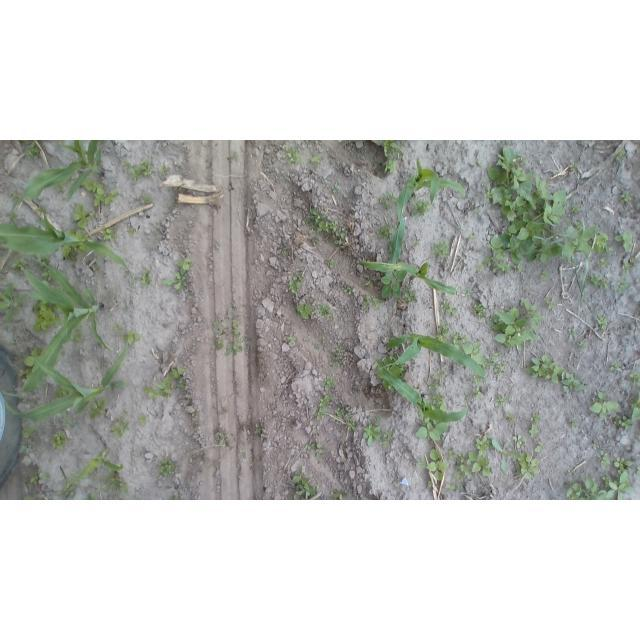Maize: (1, 258, 115, 397), (0, 334, 128, 423), (0, 213, 130, 276), (11, 140, 102, 228), (375, 359, 468, 424), (378, 334, 486, 379), (361, 258, 456, 294), (413, 157, 467, 204), (76, 448, 122, 479)
Weeds: (489, 145, 599, 263), (522, 355, 584, 394), (493, 296, 540, 346), (565, 471, 632, 500), (307, 207, 346, 246), (160, 257, 194, 292), (212, 319, 244, 355), (457, 451, 492, 482), (492, 439, 521, 474), (0, 282, 26, 319), (83, 179, 117, 206), (95, 474, 130, 499), (380, 141, 404, 174), (590, 391, 619, 418), (425, 447, 448, 481), (32, 304, 62, 329), (121, 159, 152, 182), (381, 270, 406, 298), (292, 476, 320, 501), (414, 423, 450, 442), (463, 341, 486, 367), (73, 203, 96, 229), (518, 453, 539, 480), (484, 254, 509, 275), (111, 411, 130, 438), (156, 454, 178, 476), (363, 424, 382, 447), (315, 395, 333, 418), (50, 431, 71, 450), (615, 230, 633, 252), (410, 200, 432, 217), (385, 356, 405, 374), (89, 398, 107, 418), (25, 347, 42, 368), (285, 146, 304, 164), (378, 191, 397, 209), (430, 240, 450, 257), (306, 442, 323, 462), (328, 348, 344, 369), (597, 449, 612, 471), (614, 456, 634, 472), (158, 376, 172, 396), (596, 230, 608, 253), (614, 416, 635, 429), (364, 294, 380, 311), (62, 482, 79, 498), (452, 331, 467, 349), (125, 331, 144, 345), (631, 391, 640, 420), (589, 275, 609, 288), (10, 258, 30, 271), (297, 302, 313, 318), (485, 349, 500, 366), (291, 275, 304, 294), (476, 434, 491, 450), (595, 313, 610, 329), (26, 143, 40, 160), (141, 269, 155, 286), (437, 323, 450, 341), (376, 225, 392, 239), (432, 395, 446, 411), (440, 302, 458, 314), (513, 436, 527, 451), (98, 226, 115, 238), (169, 368, 187, 379), (470, 386, 484, 400), (62, 412, 75, 427), (142, 386, 158, 398), (630, 368, 640, 387), (343, 286, 357, 299), (492, 364, 505, 377), (608, 360, 621, 373), (316, 304, 330, 316), (322, 376, 334, 390), (495, 395, 509, 407), (619, 279, 634, 290), (31, 471, 42, 486), (346, 417, 357, 432), (22, 426, 37, 436), (429, 381, 444, 391), (474, 304, 485, 317), (433, 370, 448, 379), (571, 203, 583, 214), (615, 149, 626, 161), (337, 408, 348, 420), (535, 440, 546, 452), (544, 297, 554, 310), (529, 424, 539, 437), (405, 291, 416, 302), (417, 459, 428, 470), (139, 413, 149, 425), (387, 242, 394, 259), (288, 332, 297, 345), (622, 191, 631, 204), (569, 417, 580, 427), (530, 413, 541, 423), (505, 413, 516, 423), (55, 389, 70, 396), (161, 161, 168, 176), (311, 154, 321, 164), (331, 184, 342, 193), (472, 375, 483, 384), (63, 246, 71, 258), (141, 194, 153, 202), (255, 423, 263, 435), (333, 492, 345, 500), (567, 328, 575, 340), (540, 271, 550, 280), (461, 289, 472, 297), (385, 431, 394, 440), (623, 265, 634, 272), (74, 331, 81, 342), (468, 234, 479, 241), (446, 484, 458, 490), (449, 450, 457, 459), (601, 259, 608, 269), (380, 441, 391, 447), (23, 496, 36, 501), (365, 277, 373, 285), (328, 261, 336, 269), (18, 371, 28, 377), (77, 246, 87, 252), (578, 341, 588, 347), (128, 228, 135, 236), (114, 324, 121, 331), (427, 482, 434, 489), (415, 236, 421, 244), (632, 257, 639, 263), (457, 484, 463, 491), (570, 165, 578, 170), (514, 264, 523, 268), (315, 343, 321, 349), (476, 264, 483, 269), (374, 416, 381, 421), (178, 384, 186, 388), (636, 468, 640, 475), (329, 314, 334, 319)
